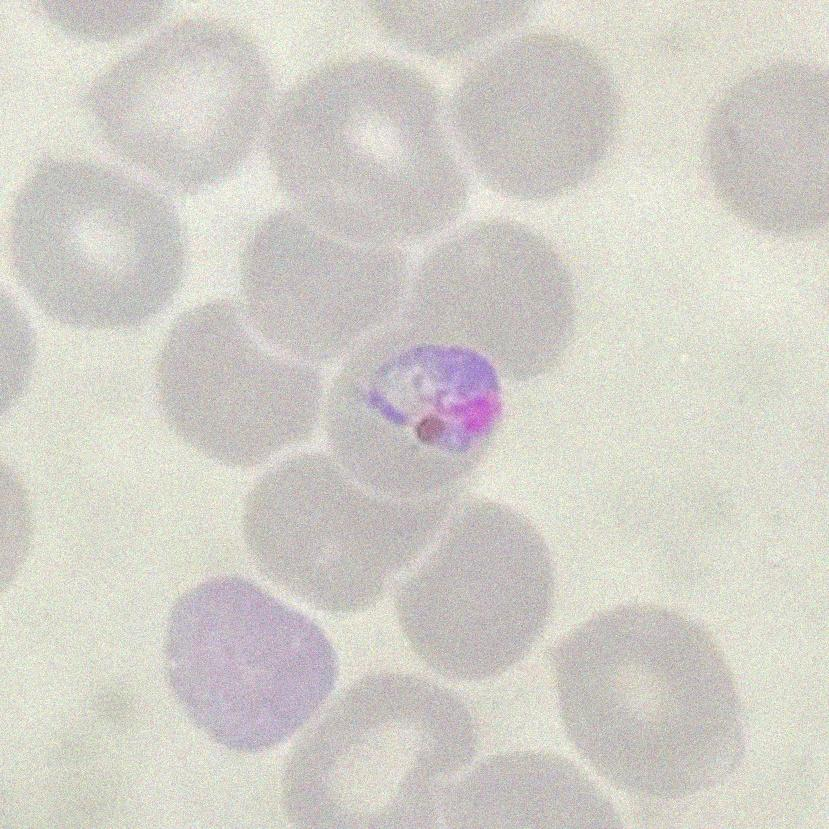Infected: (328, 344, 503, 501)
Uninfected: (549, 604, 741, 797), (267, 55, 463, 237), (92, 17, 278, 190), (164, 576, 340, 750), (283, 672, 477, 827), (11, 157, 183, 330), (405, 212, 572, 388), (241, 454, 424, 614), (392, 502, 555, 679), (451, 33, 618, 200), (156, 304, 325, 469), (241, 211, 409, 361), (708, 59, 828, 234)
